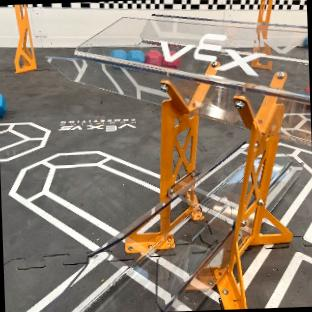Goal: (15, 4, 36, 73)
Low_goal: (39, 139, 302, 312)
V5_BLUE: (0, 92, 6, 117)
